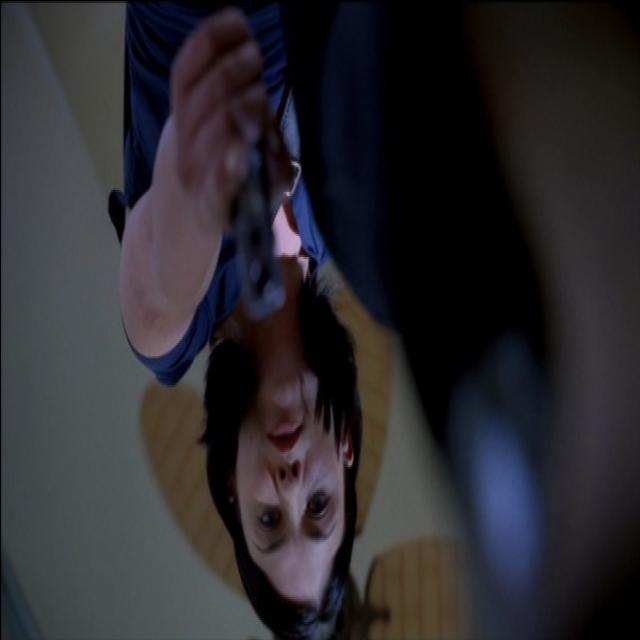weapons: (178, 32, 296, 372)
